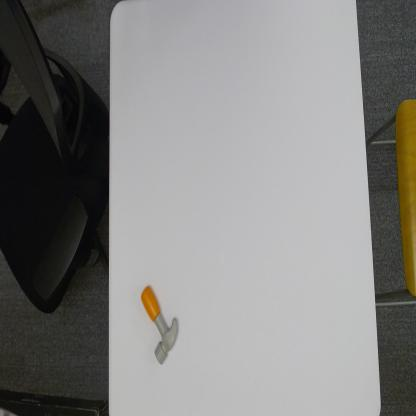Hammer: (141, 284, 179, 363)
